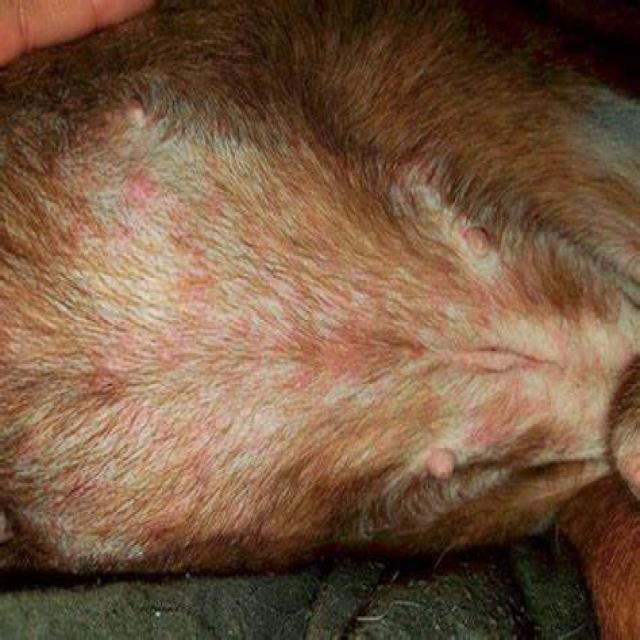di ung bo chet: (0, 106, 551, 557)
